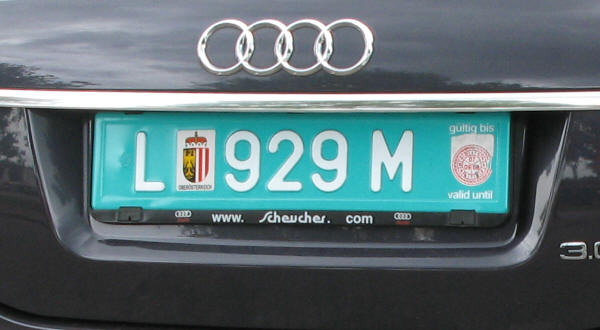license_plate: (92, 113, 512, 214)
